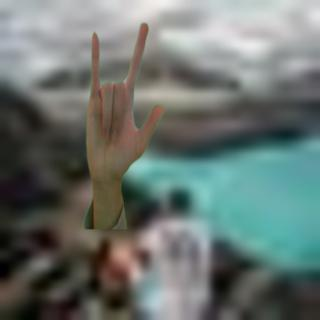ILY: (81, 20, 165, 190)
